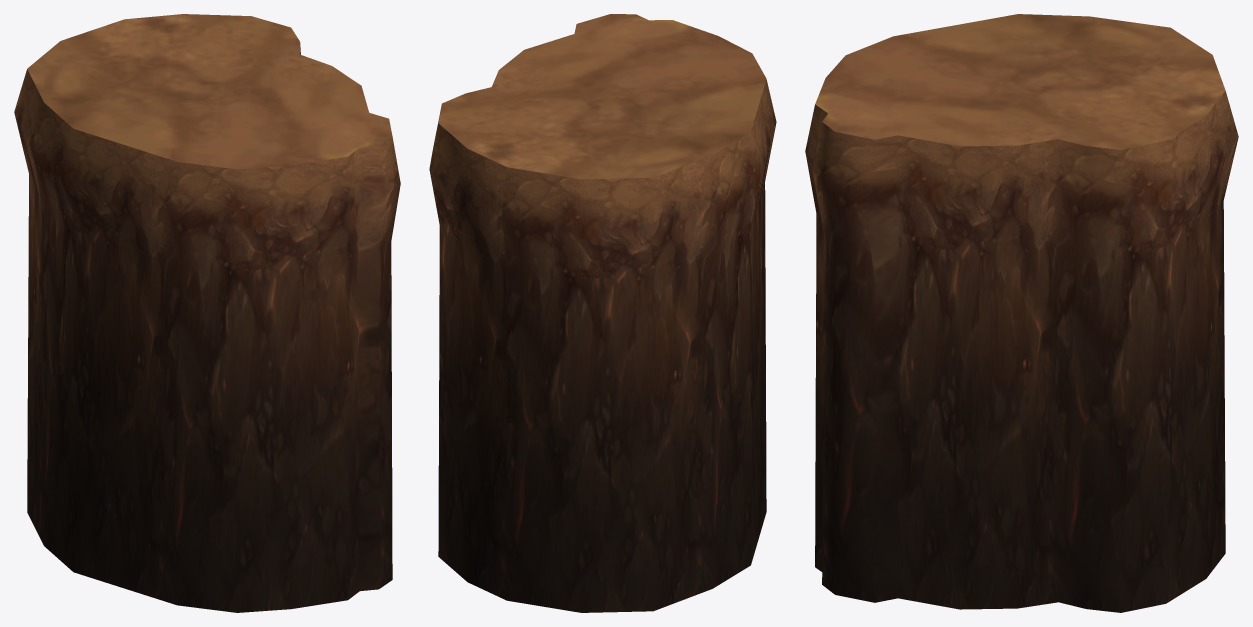
The model's file is DiZuo04.FBX.
3 views of the same model, side by side, from view 1: azimuth 30°, elevation 25°; view 2: azimuth 150°, elevation 25°; view 3: azimuth 270°, elevation 25° (orthographic). The views are drawn at different scales.
Visible parts, largest first — view 1: DiZuo04, DiZuo04b; view 2: DiZuo04, DiZuo04b; view 3: DiZuo04, DiZuo04b.
Boxes of the visible parts, <box> form: DiZuo04: <box>14,42,400,612</box>; DiZuo04b: <box>27,14,392,169</box>; DiZuo04: <box>429,79,776,612</box>; DiZuo04b: <box>438,14,766,179</box>; DiZuo04: <box>805,91,1238,612</box>; DiZuo04b: <box>815,14,1225,149</box>.
Bounding box in the file's own units: 786 × 1180 × 1001.
